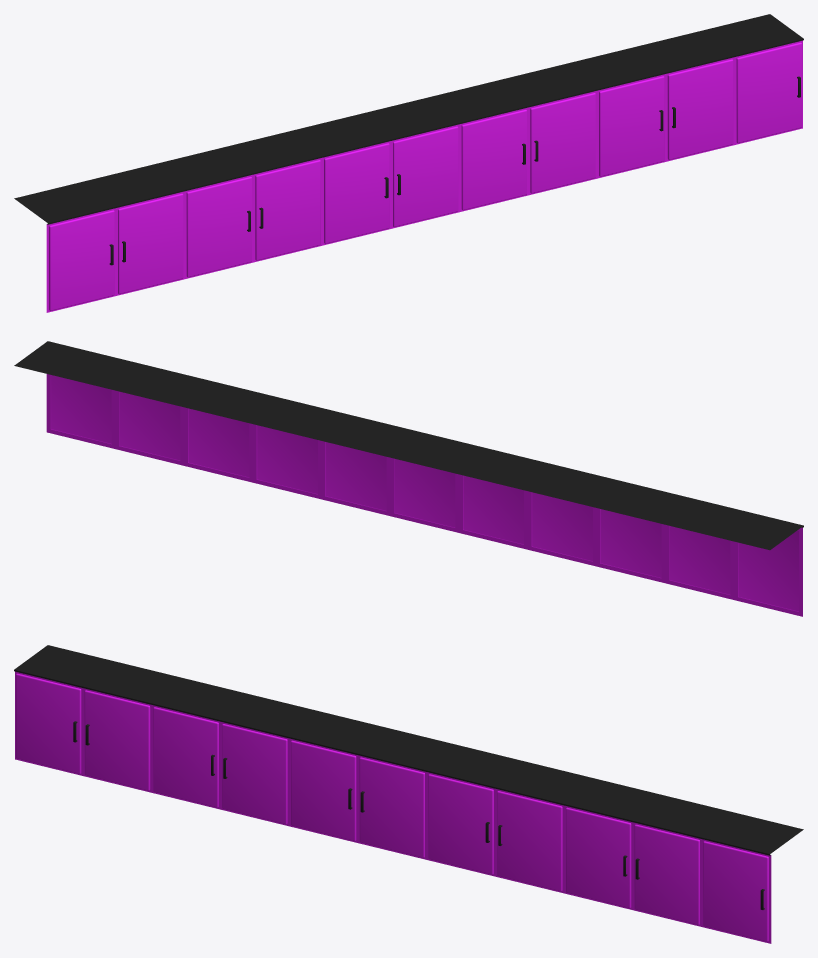
The model's file is SM_Armario_Bajo.fbx.
3 renders of one model, top to bottom at view 1: azimuth 30°, elevation 25°; view 2: azimuth 150°, elevation 25°; view 3: azimuth 330°, elevation 25°, orthographic.
Parts seen in each view (by area): view 1: SM_Armario_002, SM_Armario_001, SM_Armario_030, SM_Armario_025, SM_Armario_003, SM_Armario_028, SM_Armario_029, SM_Armario_024, SM_Armario_023, SM_Armario_027, SM_Armario_031, SM_Armario_022 (+1 smaller); view 2: SM_Armario_002, SM_Armario_001, SM_Armario_003, SM_Armario_024, SM_Armario_027, SM_Armario_030, SM_Armario_023, SM_Armario_028, SM_Armario_026, SM_Armario_029, SM_Armario_031, SM_Armario_022 (+1 smaller); view 3: SM_Armario_002, SM_Armario_001, SM_Armario_022, SM_Armario_025, SM_Armario_003, SM_Armario_029, SM_Armario_030, SM_Armario_023, SM_Armario_027, SM_Armario_031, SM_Armario_024, SM_Armario_026 (+1 smaller).
Part boxes in pixels (x1,y1,x2,y2): SM_Armario_002: (14, 14, 803, 224); SM_Armario_001: (46, 40, 802, 312); SM_Armario_030: (667, 59, 733, 159); SM_Armario_025: (324, 143, 389, 243); SM_Armario_003: (49, 210, 114, 310); SM_Armario_028: (530, 93, 595, 193); SM_Armario_029: (599, 76, 664, 176); SM_Armario_024: (255, 160, 320, 260); SM_Armario_023: (186, 176, 251, 277); SM_Armario_027: (461, 109, 526, 210); SM_Armario_031: (736, 42, 801, 143); SM_Armario_022: (118, 193, 183, 294); SM_Armario_002: (14, 341, 803, 550); SM_Armario_001: (46, 374, 802, 616); SM_Armario_003: (738, 530, 798, 611); SM_Armario_024: (531, 492, 592, 561); SM_Armario_027: (325, 442, 386, 511); SM_Armario_030: (119, 391, 180, 460); SM_Armario_023: (600, 509, 661, 578); SM_Armario_028: (256, 425, 317, 494); SM_Armario_026: (394, 458, 455, 527); SM_Armario_029: (188, 408, 249, 477); SM_Armario_031: (50, 375, 111, 444); SM_Armario_022: (669, 526, 730, 594); SM_Armario_002: (14, 645, 803, 855); SM_Armario_001: (15, 671, 771, 943); SM_Armario_022: (84, 690, 150, 790); SM_Armario_025: (291, 740, 356, 841); SM_Armario_003: (16, 673, 81, 774); SM_Armario_029: (566, 807, 631, 908); SM_Armario_030: (634, 824, 699, 925); SM_Armario_023: (153, 707, 218, 807); SM_Armario_027: (428, 774, 493, 874); SM_Armario_031: (703, 841, 768, 941); SM_Armario_024: (222, 724, 287, 824); SM_Armario_026: (359, 757, 424, 857).
Size of the model in its own units: 800 by 91.5 by 65.73.
